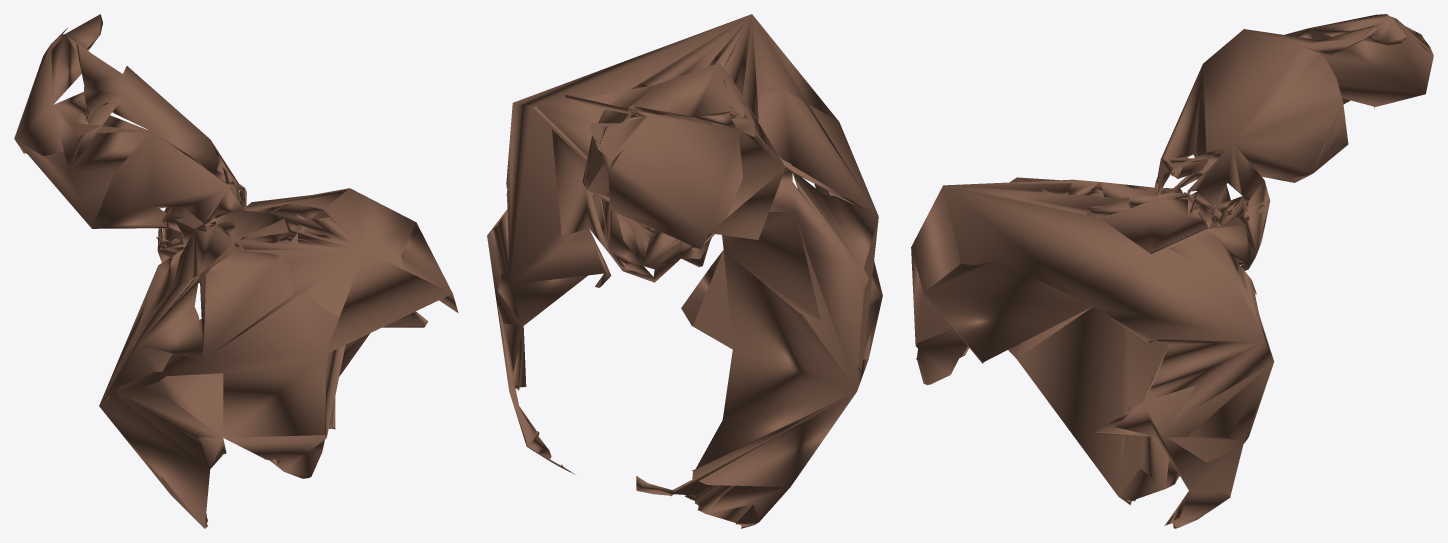
The model's file is Hair_bun_LOD2.glb.
3 renders of one model, left to right at view 1: azimuth 30°, elevation 25°; view 2: azimuth 150°, elevation 25°; view 3: azimuth 270°, elevation 25°, orthographic. The views are drawn at different scales.
Parts seen in each view (by area): view 1: Hair_bun_LOD2; view 2: Hair_bun_LOD2; view 3: Hair_bun_LOD2.
Part boxes in pixels (<box>): Hair_bun_LOD2: <box>14,14,458,528</box>; Hair_bun_LOD2: <box>487,14,882,528</box>; Hair_bun_LOD2: <box>911,14,1433,528</box>.
Size of the model in its own units: 0.2464 by 0.3245 by 0.3222.
